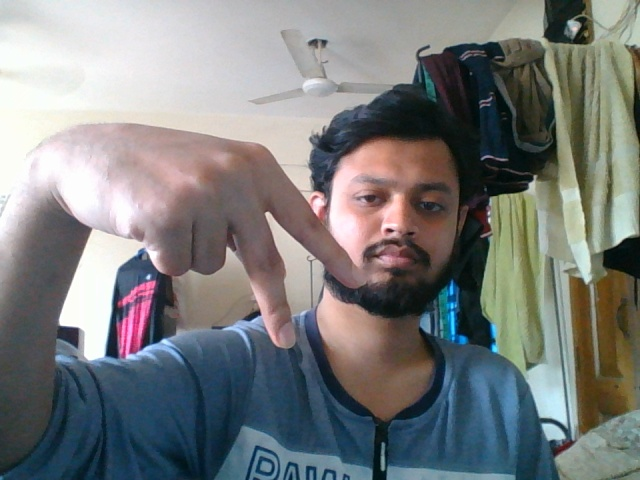pa: (46, 117, 372, 351)
